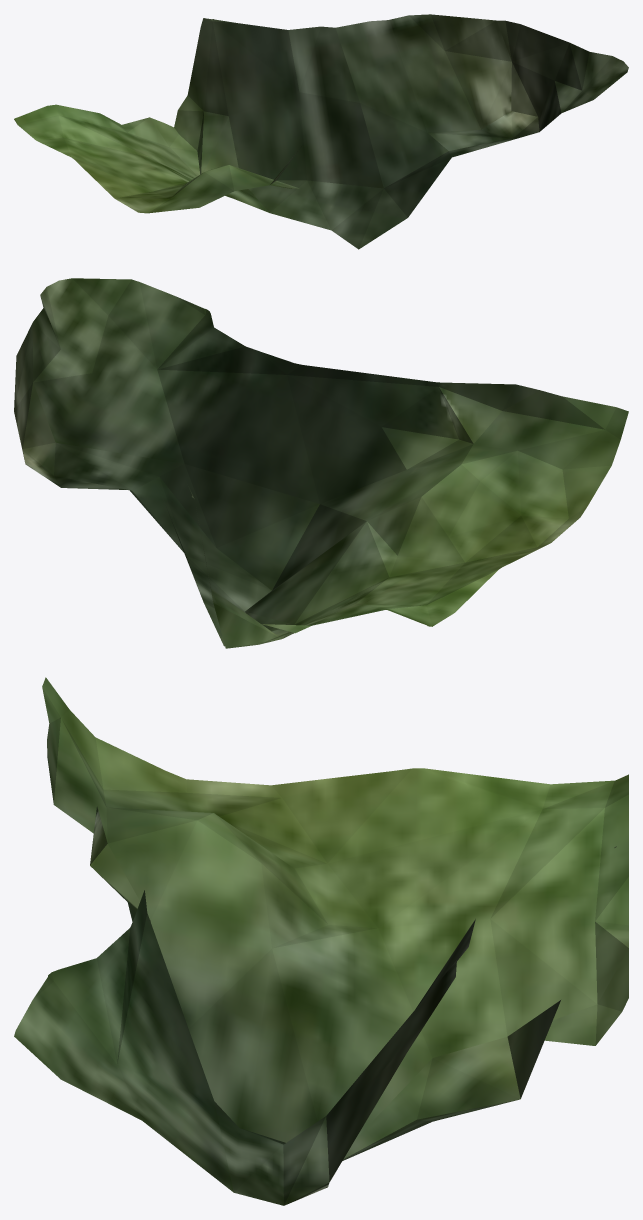
The picture shows the model from 3 angles, top to bottom: view 1: azimuth 30°, elevation 25°; view 2: azimuth 150°, elevation 25°; view 3: azimuth 270°, elevation 25°; orthographic projection. The views are drawn at different scales.
Bounding box in the file's own units: 1.61 × 0.546 × 1.05.
1 material, 1 textured.
